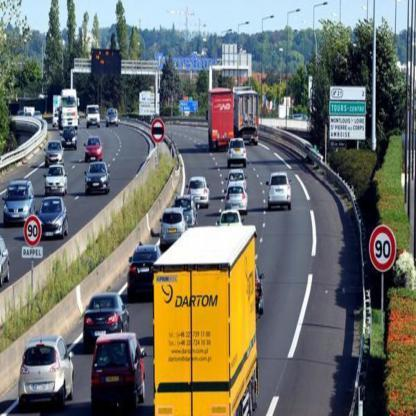Speed Limit 90: (370, 228, 395, 270), (24, 216, 42, 246)
